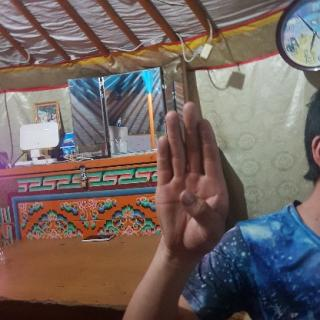KAAF: (148, 96, 234, 261)
